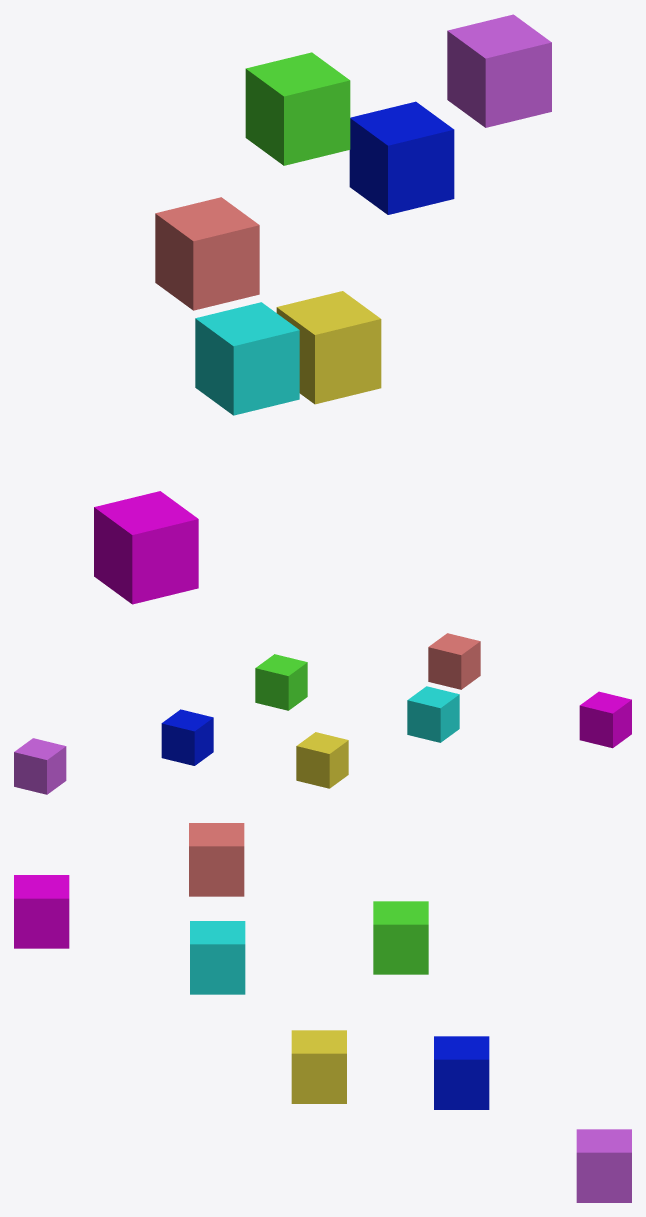
File: clickable.glb
3 views of the same model, one above another, from view 1: azimuth 30°, elevation 25°; view 2: azimuth 150°, elevation 25°; view 3: azimuth 270°, elevation 25° (orthographic). The views are drawn at different scales.
Visible parts, largest first — view 1: cube_1.007, cube_1, cube_1.002, cube_1.006, cube_1.001, cube_1.003, cube_1.005; view 2: cube_1, cube_1.007, cube_1.001, cube_1.005, cube_1.006, cube_1.002, cube_1.003; view 3: cube_1, cube_1.001, cube_1.002, cube_1.003, cube_1.005, cube_1.006, cube_1.007.
Boxes of the visible parts, x1=… form: cube_1.007: x1=245, y1=52, x2=350, y2=165; cube_1: x1=349, y1=101, x2=454, y2=214; cube_1.002: x1=195, y1=302, x2=299, y2=415; cube_1.006: x1=155, y1=197, x2=259, y2=310; cube_1.001: x1=447, y1=14, x2=551, y2=127; cube_1.003: x1=94, y1=491, x2=198, y2=604; cube_1.005: x1=276, y1=291, x2=381, y2=404; cube_1: x1=161, y1=709, x2=213, y2=765; cube_1.007: x1=255, y1=654, x2=307, y2=710; cube_1.001: x1=14, y1=738, x2=66, y2=794; cube_1.005: x1=296, y1=732, x2=348, y2=788; cube_1.006: x1=428, y1=633, x2=480, y2=689; cube_1.002: x1=407, y1=686, x2=459, y2=742; cube_1.003: x1=579, y1=691, x2=631, y2=748; cube_1: x1=434, y1=1036, x2=489, y2=1109; cube_1.001: x1=576, y1=1129, x2=631, y2=1202; cube_1.002: x1=190, y1=921, x2=245, y2=994; cube_1.003: x1=14, y1=875, x2=69, y2=948; cube_1.005: x1=291, y1=1030, x2=346, y2=1103; cube_1.006: x1=189, y1=823, x2=244, y2=896; cube_1.007: x1=373, y1=901, x2=428, y2=974.
Bounding box in the file's own units: 6.1 × 1.89 × 5.58.
